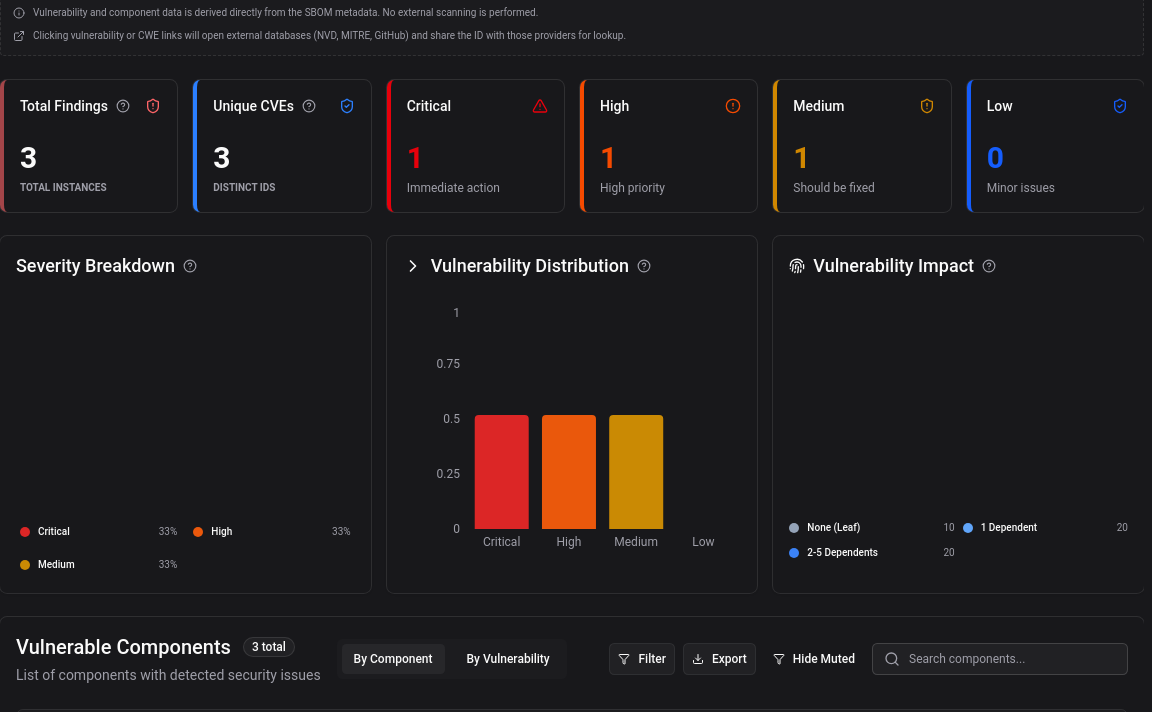
Test: VulnerabilitiesView › should switch to vulnerability view and show CVEs
The image size is (1152, 712).
Click the button "By Vulnerability": {"x": 508, "y": 659} [454, 643, 563, 675]
(page scrolled)
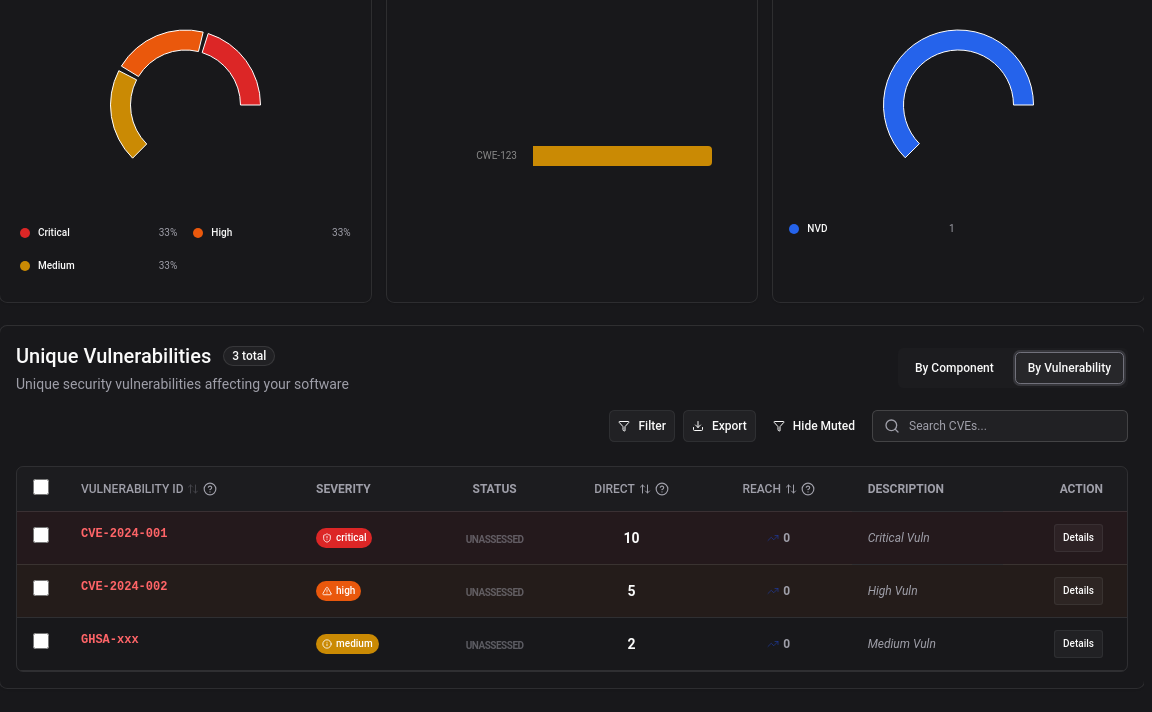
Now the text "CVE-2024-001" is shown, box [81, 526, 167, 542]
Now the text "CVE-2024-002" is shown, box [81, 579, 167, 595]
Now the text "GHSA-xxx" is shown, box [81, 632, 139, 648]
